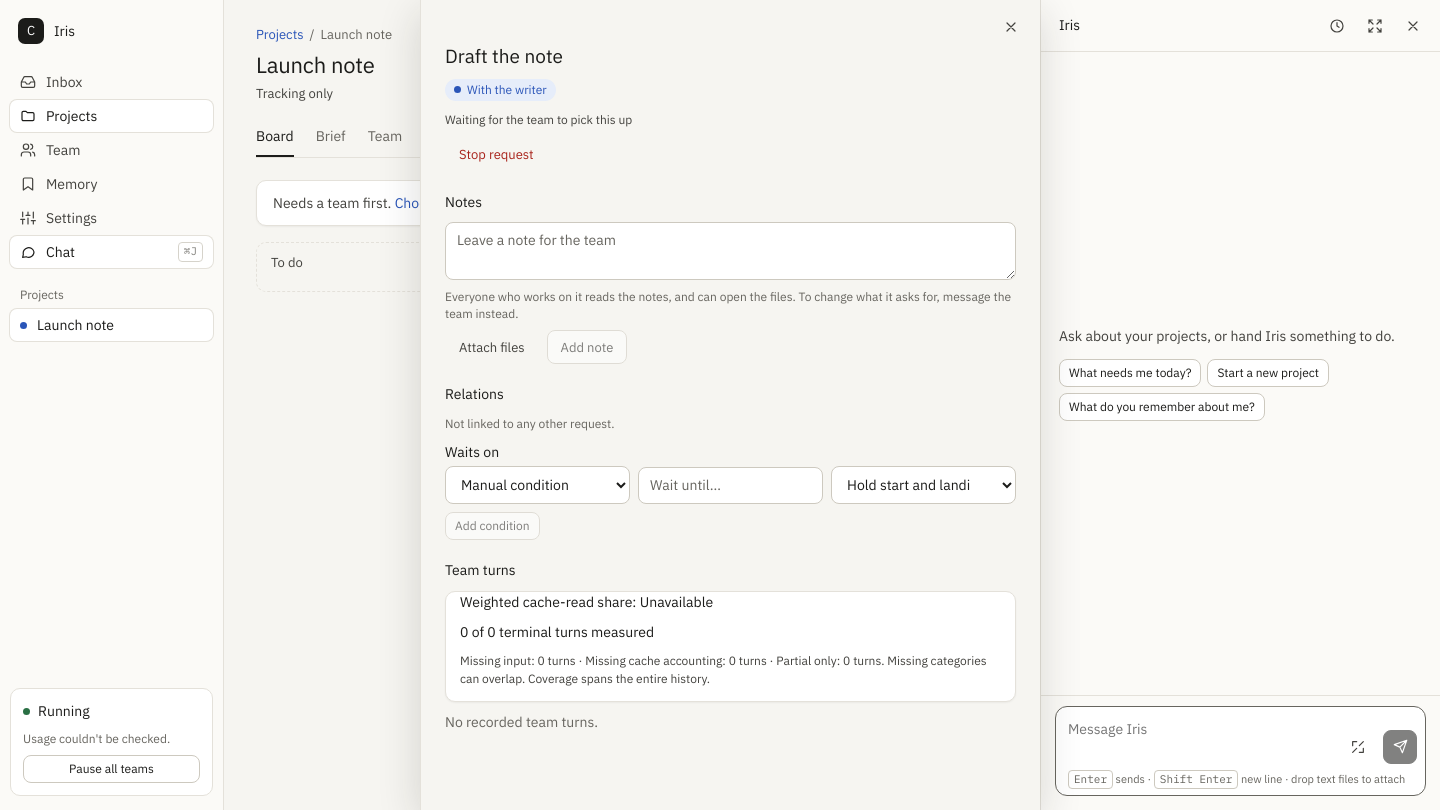
Scenario: the shell › keeps an open request while the chat runs a command and browses past conversations
Type "/compact" into the text box labelled "Message Iris" at (1200, 740), box x1=1068 y1=715 x2=1333 y2=764
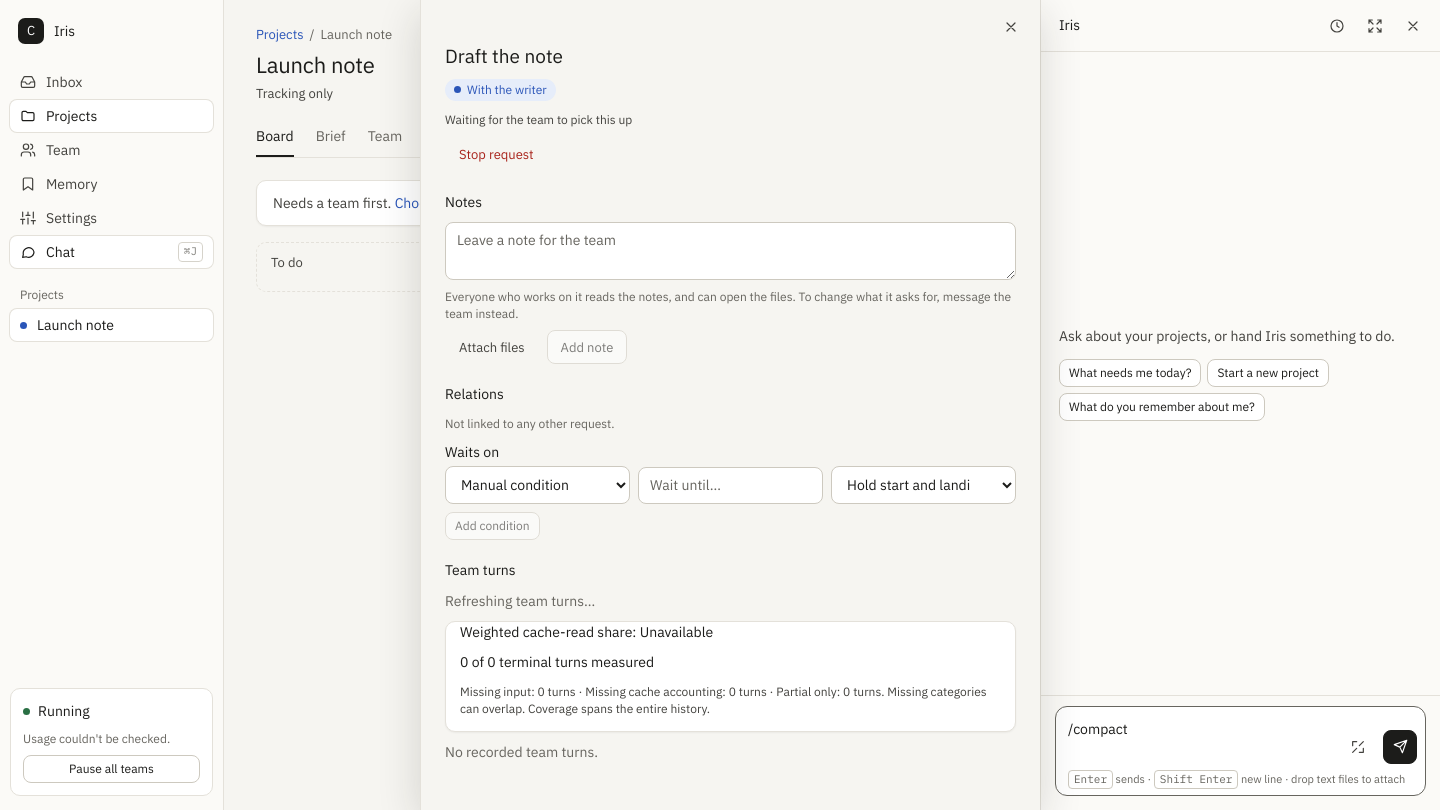
Press Enter in the text box named "Message Iris", box x1=1068 y1=715 x2=1333 y2=764
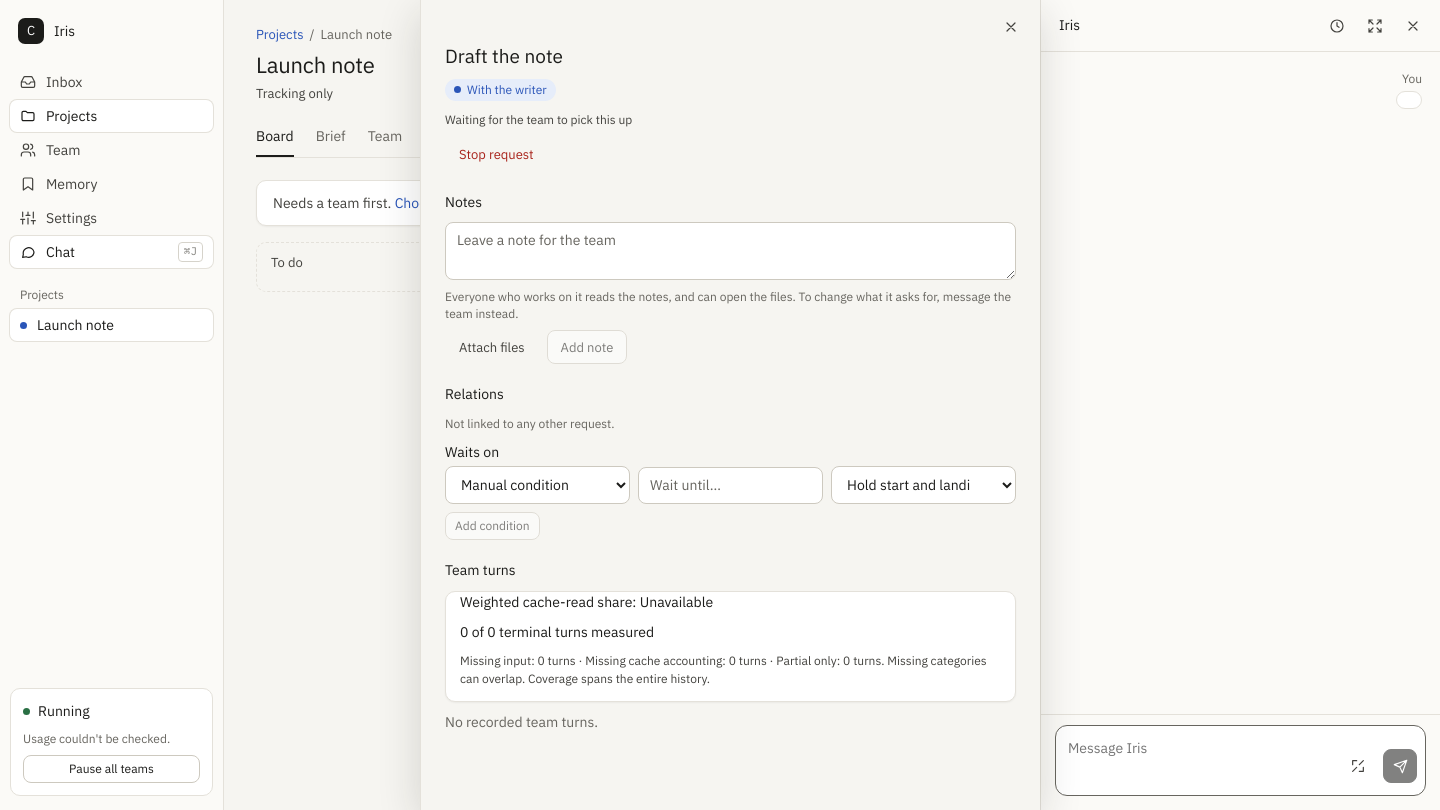
Type "Also mention pric" into the text box labelled "Message Iris" at (1200, 759), box x1=1068 y1=734 x2=1333 y2=783
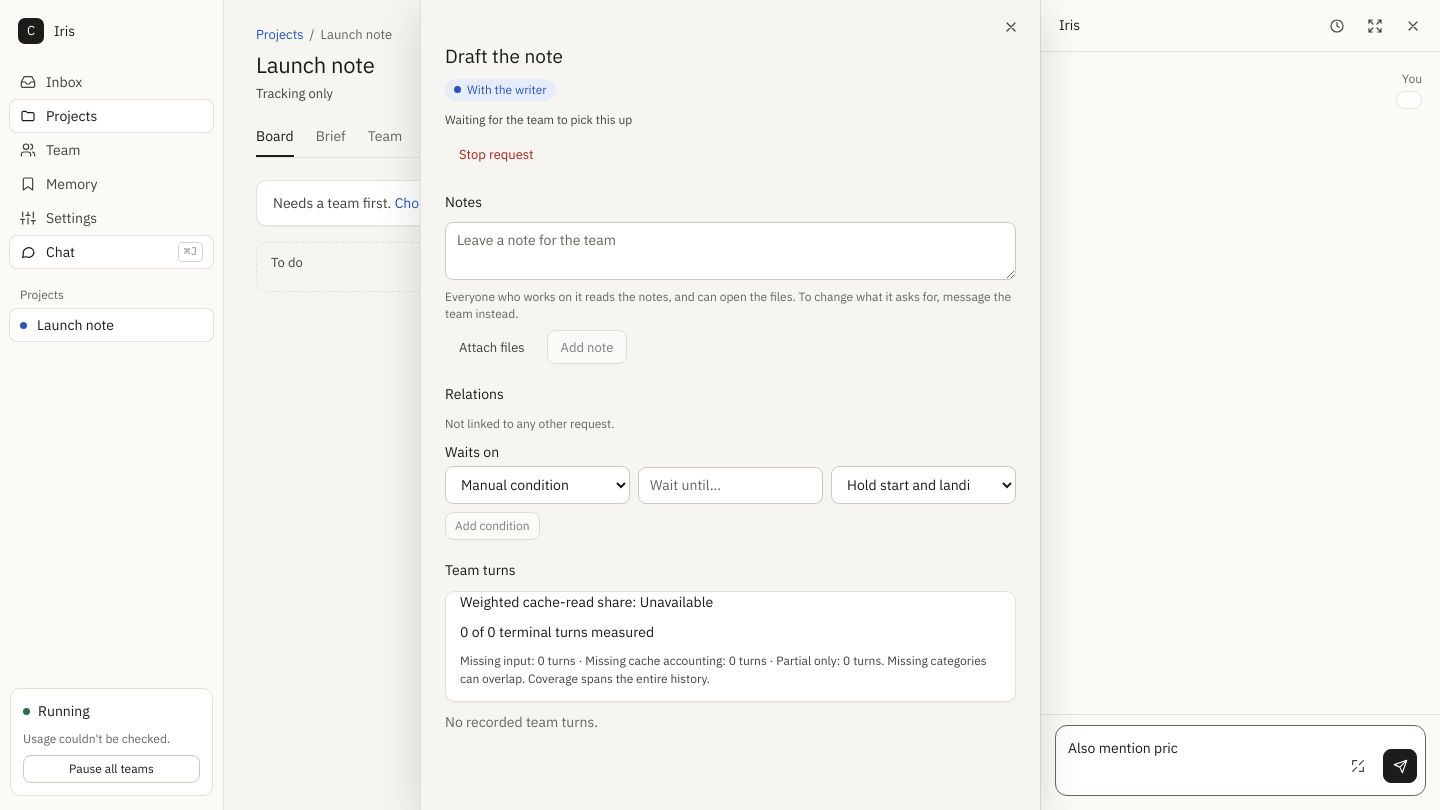
Click the button named "Past conversations" at (1337, 26), box x1=1320 y1=8 x2=1354 y2=42
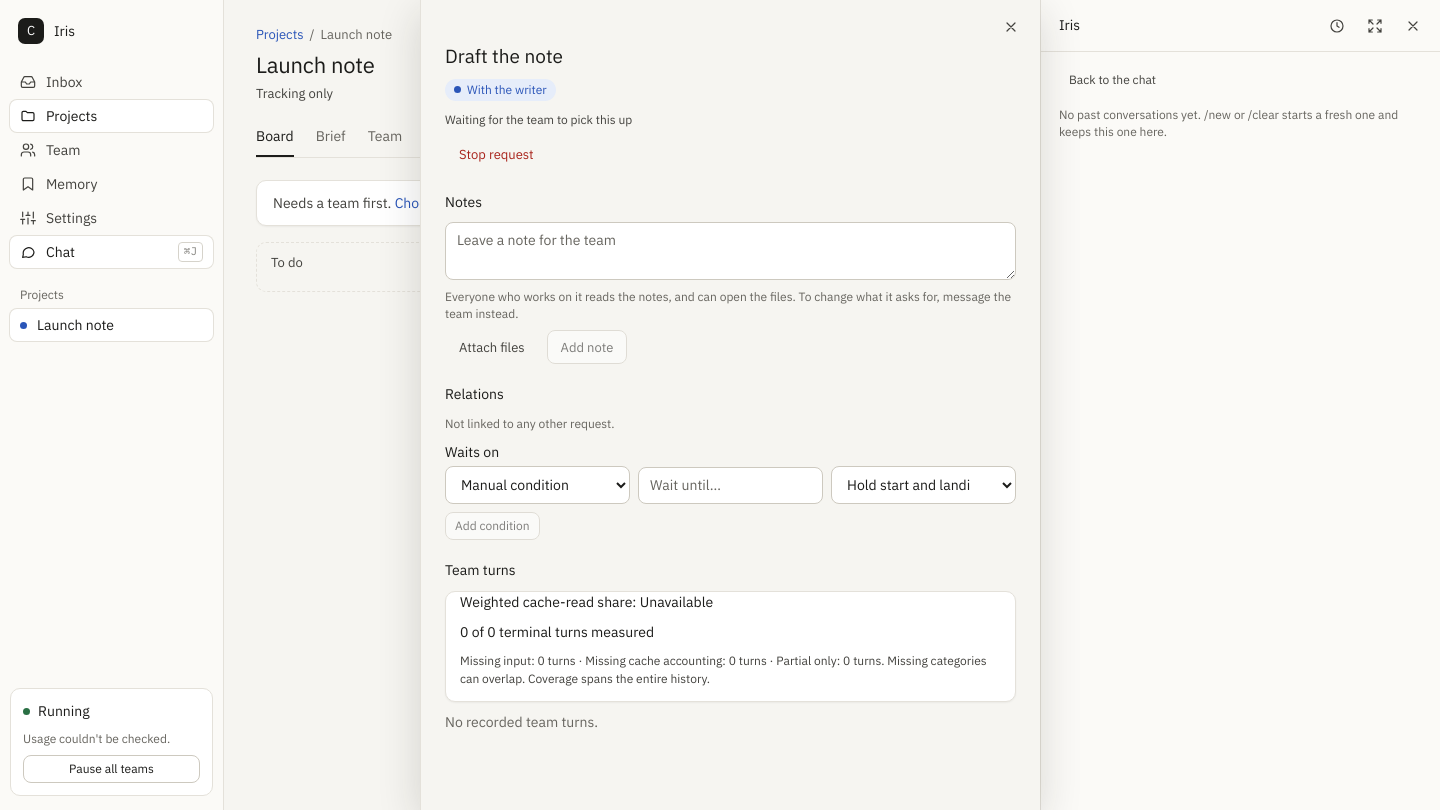
Expected: the field labelled "Message Iris" is not shown
Click the button "Back to the chat" at (1113, 80), box x1=1059 y1=66 x2=1166 y2=94
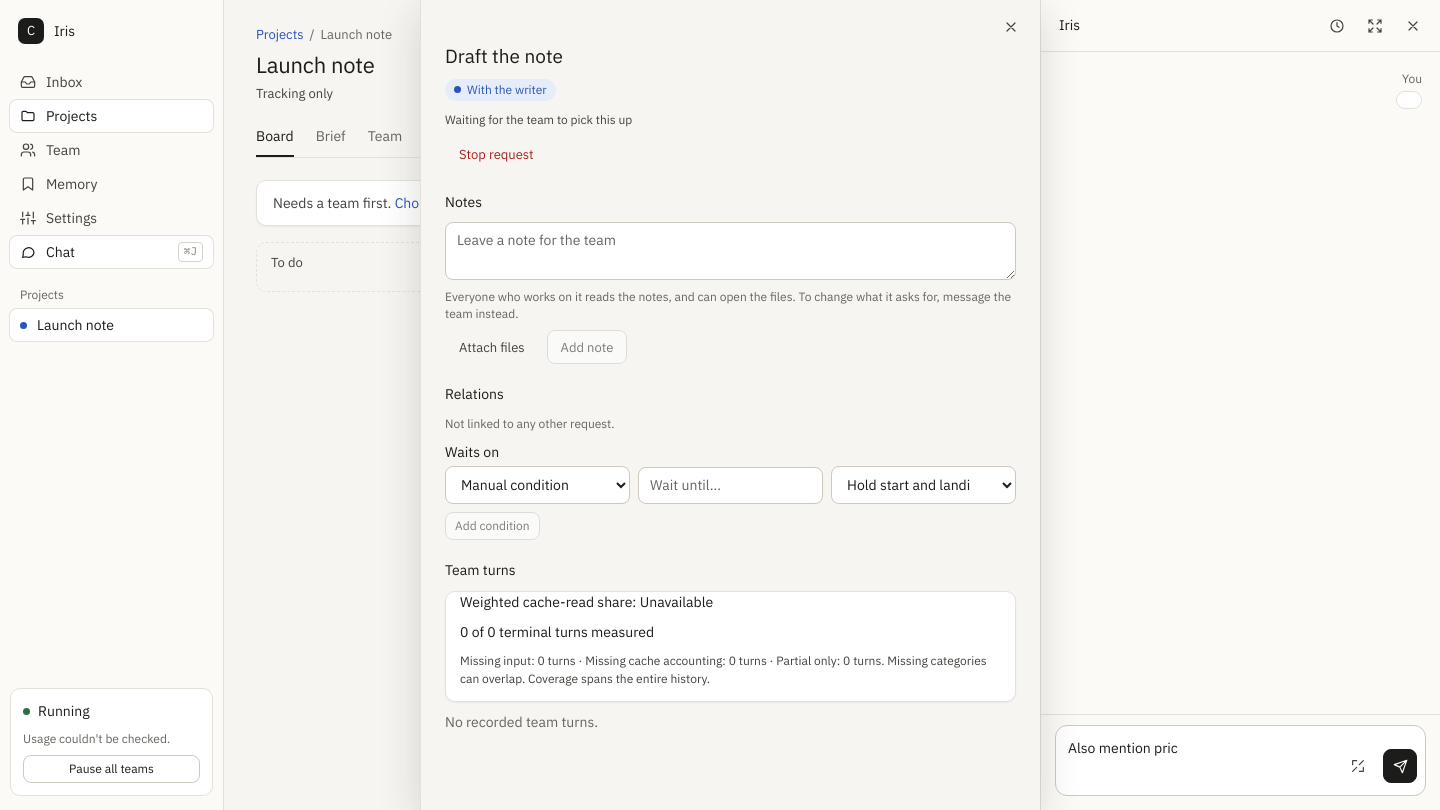
Expected: the text box named "Message Iris" holds "Also mention pric", x1=1068 y1=734 x2=1333 y2=783
